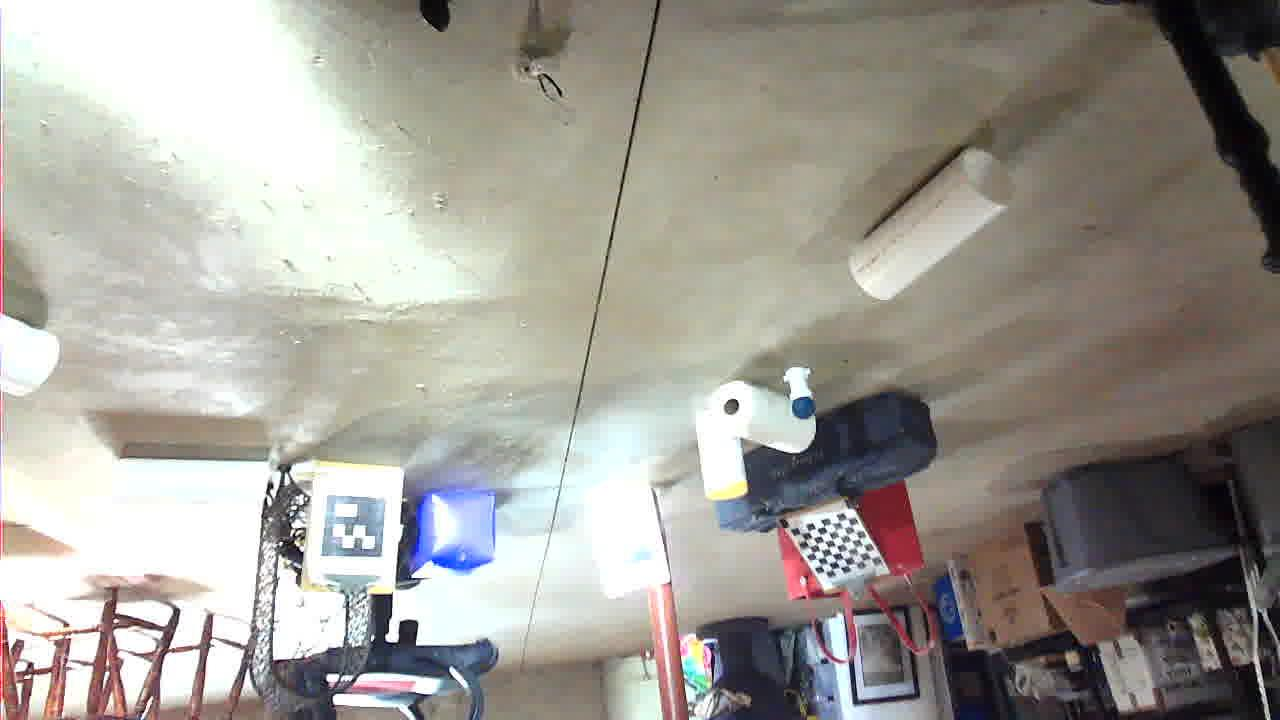coral: (266, 421, 429, 574), (1016, 207, 1156, 262), (1223, 325, 1280, 401)
